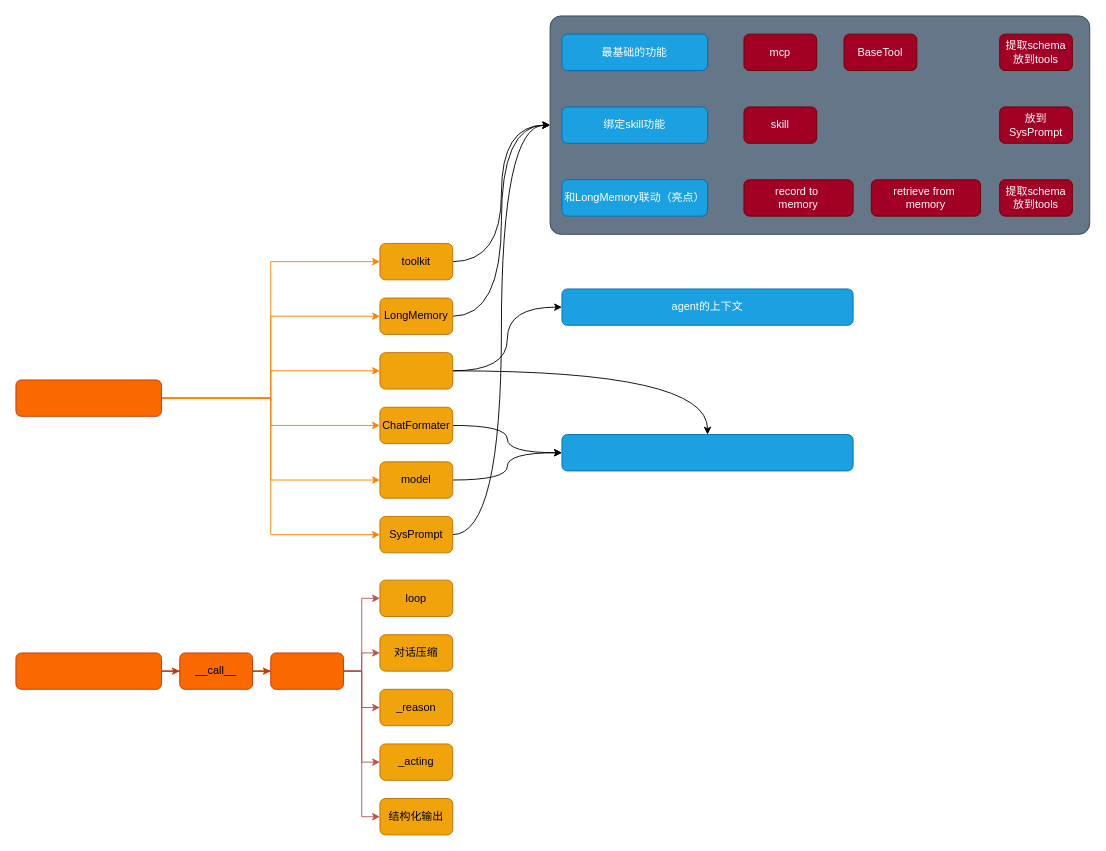
Image size: 1106x851. Some labels were removed from this diagram. Each missing label, with the box of its shape:
agent 运行阶段: (15, 652, 162, 689)
agent-message格式 转换给model messages格式: (561, 434, 853, 471)
reply: (270, 652, 344, 689)
shortMemory: (379, 352, 453, 389)
初始化(init): (15, 379, 162, 416)
